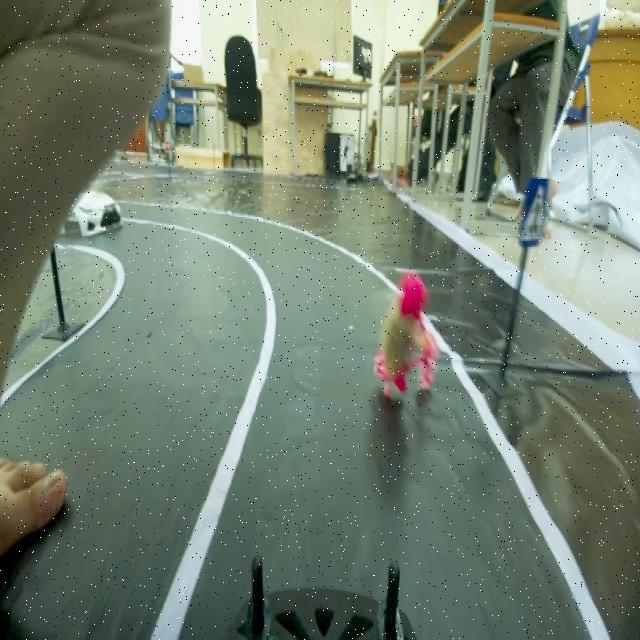crosswalk: (517, 165, 551, 264)
pedestrian: (376, 266, 444, 398)
